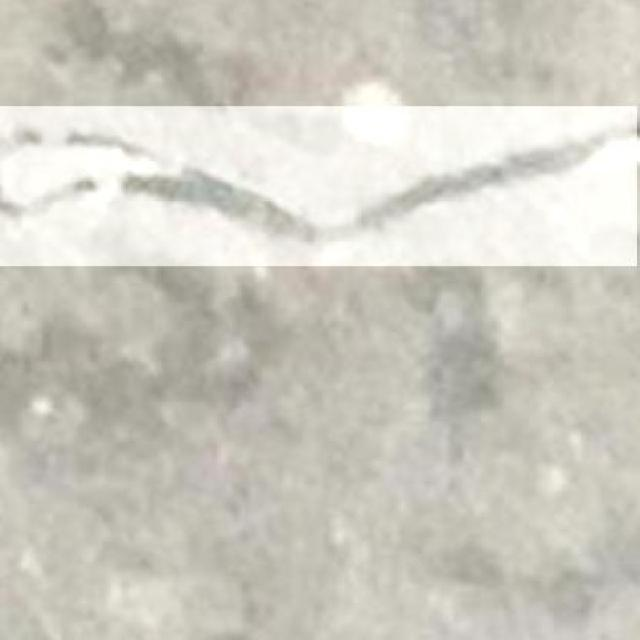Crack: (0, 110, 640, 267)
